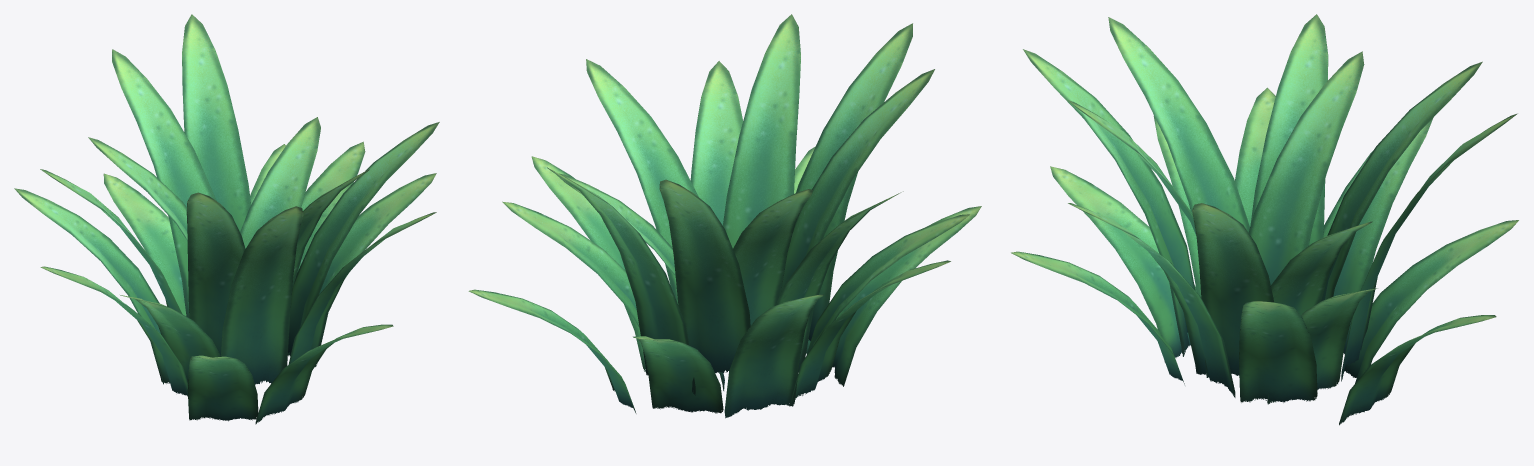
The model's file is herbe.fbx.
3 renders of one model, left to right at view 1: azimuth 30°, elevation 25°; view 2: azimuth 150°, elevation 25°; view 3: azimuth 270°, elevation 25°, orthographic. The views are drawn at different scales.
Visible parts, largest first — view 1: pPlane9 (×2), pPlane4 (×2), pPlane6 (×2), pPlane3 (×2), pPlane8 (×2), pPlane13, pPlane11 (×2), pPlane5 (×2), pPlane10 (×2), pPlane12, pPlane14; view 2: pPlane6 (×2), pPlane8 (×2), pPlane9 (×2), pPlane4 (×2), pPlane10 (×2), pPlane13, pPlane5 (×2), pPlane11 (×2), pPlane12, pPlane3, pPlane14; view 3: pPlane4 (×2), pPlane12, pPlane11 (×2), pPlane9 (×2), pPlane5 (×2), pPlane8 (×2), pPlane3 (×2), pPlane13, pPlane6 (×2), pPlane14, pPlane10 (×2).
Boxes of the visible parts, x1,y1,x2,y2 form: pPlane9 (×2): [182, 14, 303, 384]; pPlane4 (×2): [186, 117, 320, 355]; pPlane6 (×2): [112, 49, 369, 317]; pPlane3 (×2): [103, 173, 393, 424]; pPlane8 (×2): [14, 188, 436, 384]; pPlane13: [288, 122, 439, 354]; pPlane11 (×2): [40, 173, 436, 396]; pPlane5 (×2): [187, 144, 285, 421]; pPlane10 (×2): [120, 141, 365, 382]; pPlane12: [88, 137, 187, 240]; pPlane14: [40, 169, 182, 313]; pPlane6 (×2): [659, 14, 800, 373]; pPlane8 (×2): [690, 61, 823, 418]; pPlane9 (×2): [547, 23, 912, 395]; pPlane4 (×2): [557, 69, 934, 390]; pPlane10 (×2): [502, 201, 969, 395]; pPlane13: [586, 59, 698, 304]; pPlane5 (×2): [468, 206, 981, 413]; pPlane11 (×2): [531, 156, 950, 406]; pPlane12: [733, 189, 813, 325]; pPlane3: [633, 336, 723, 413]; pPlane14: [775, 191, 903, 371]; pPlane4 (×2): [1108, 17, 1372, 314]; pPlane12: [1248, 51, 1364, 285]; pPlane11 (×2): [1235, 87, 1317, 402]; pPlane9 (×2): [1023, 49, 1517, 381]; pPlane5 (×2): [1050, 166, 1496, 425]; pPlane8 (×2): [1068, 118, 1432, 397]; pPlane3 (×2): [1011, 220, 1518, 384]; pPlane13: [1192, 203, 1273, 377]; pPlane6 (×2): [1067, 61, 1482, 300]; pPlane14: [1250, 14, 1328, 245]; pPlane10 (×2): [1153, 116, 1377, 404].
Bounding box in the file's own units: 76.29 × 56.34 × 76.82.
